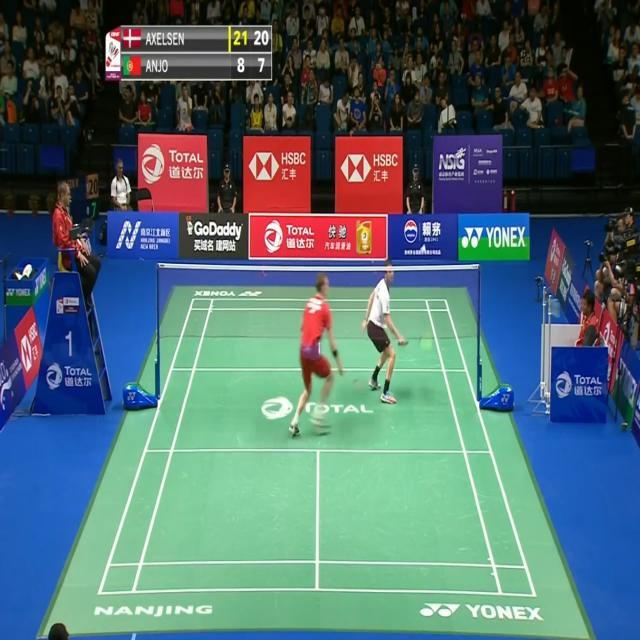Player1: (290, 268, 344, 446)
Player2: (360, 256, 410, 406)
